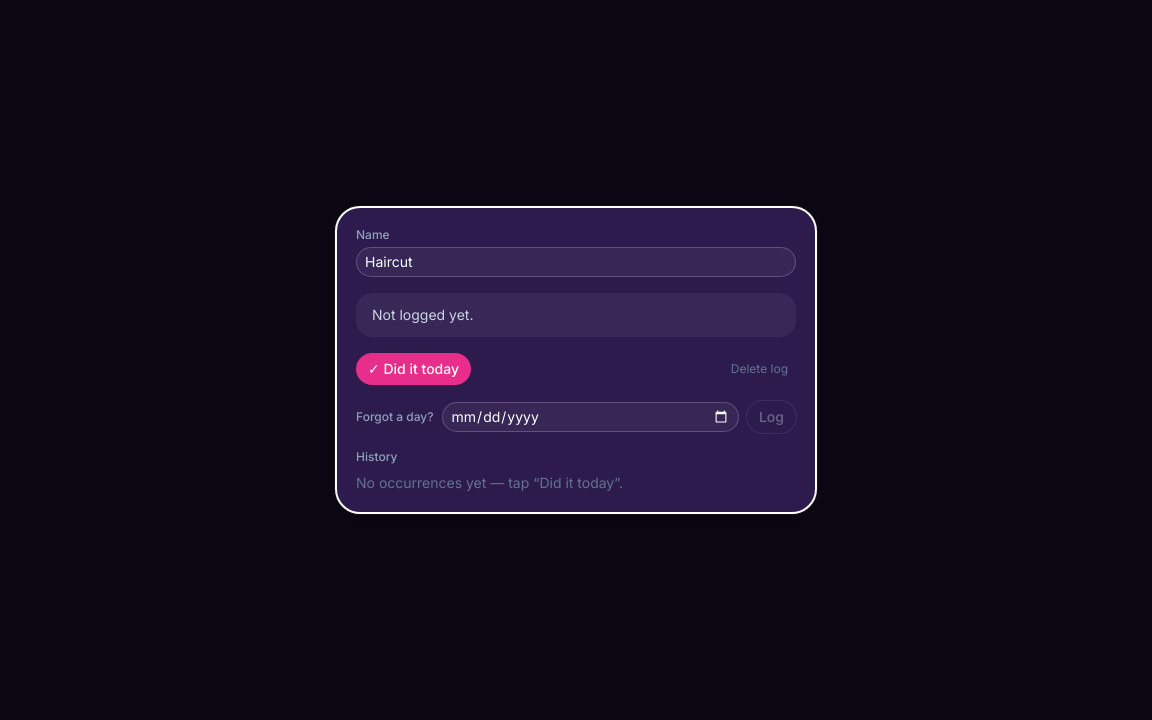
LogDetail — the on-open reveal (ADR 0087) › the Log button is disabled until a valid (non-future) date is picked
Expected: the text "Not logged yet." is shown, [356,293,796,337]
Expected: the button with aria-label "Log the chosen past day" is disabled, [747,401,796,433]
Type "2026-03-25" into the date field named "Log a past day". click: (590, 417)
box: [442,402,739,432]
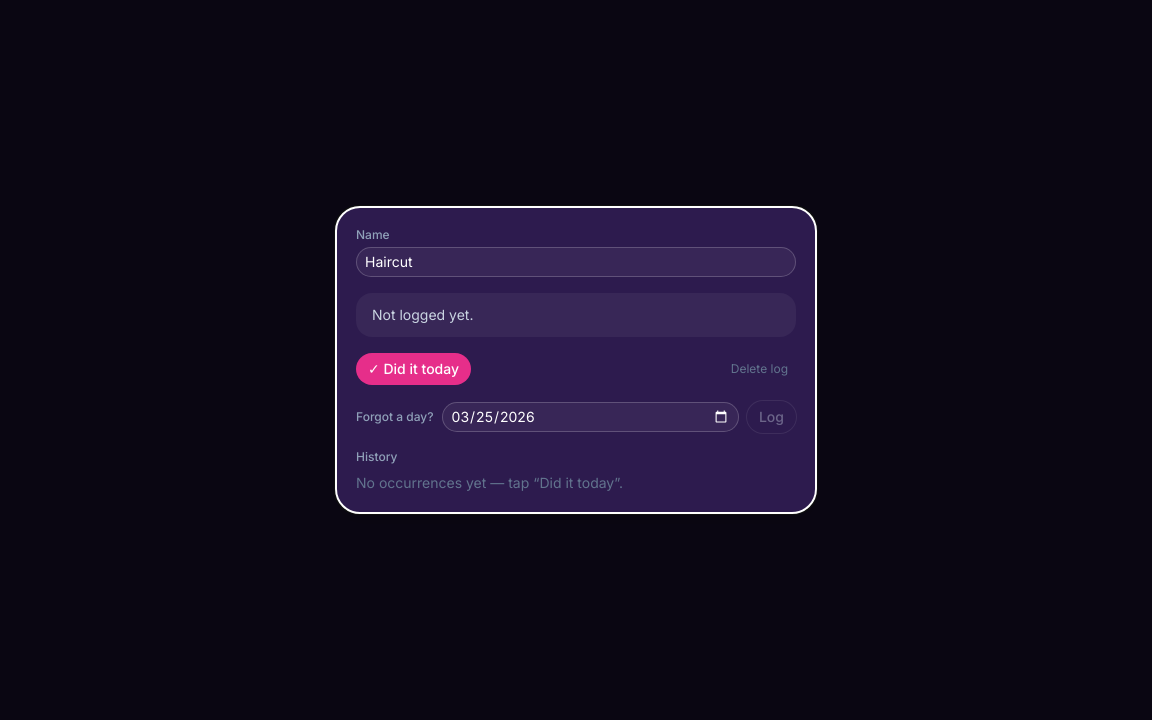
Expected: the button with aria-label "Log the chosen past day" is disabled, [747,401,796,433]
// A past date enables it.
Type "2026-03-10" into the date field named "Log a past day". click: (590, 417)
box: [442,402,739,432]
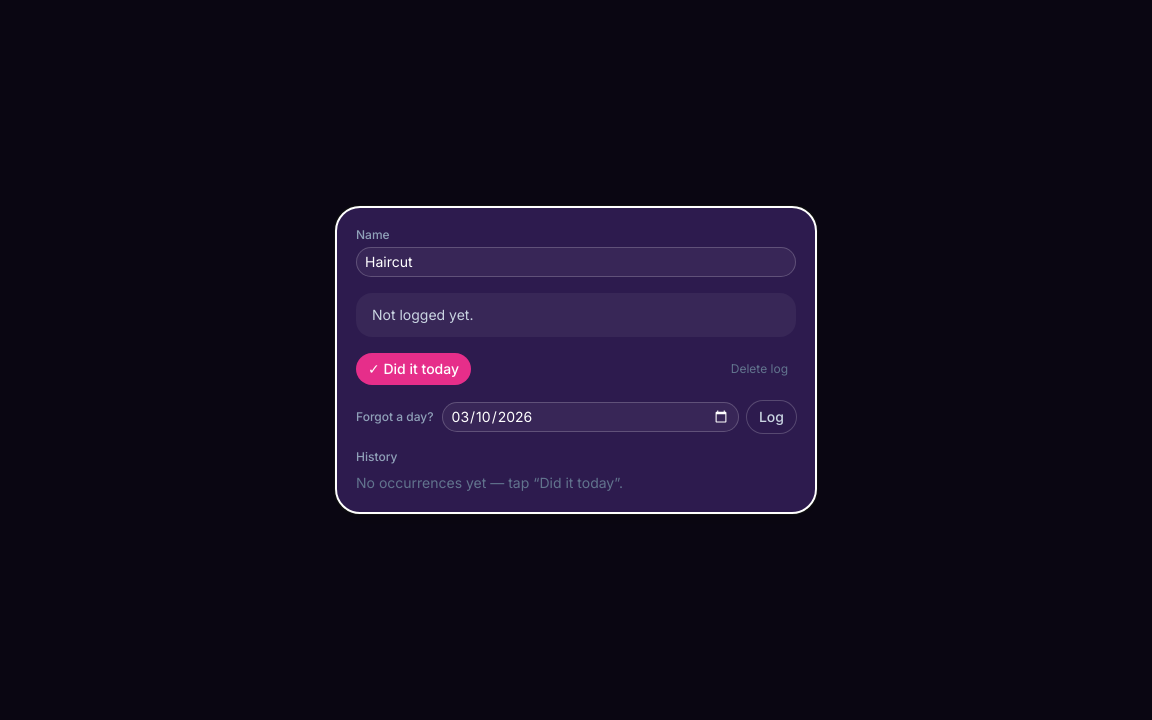
Expected: the button with aria-label "Log the chosen past day" is enabled, [747,401,796,433]
